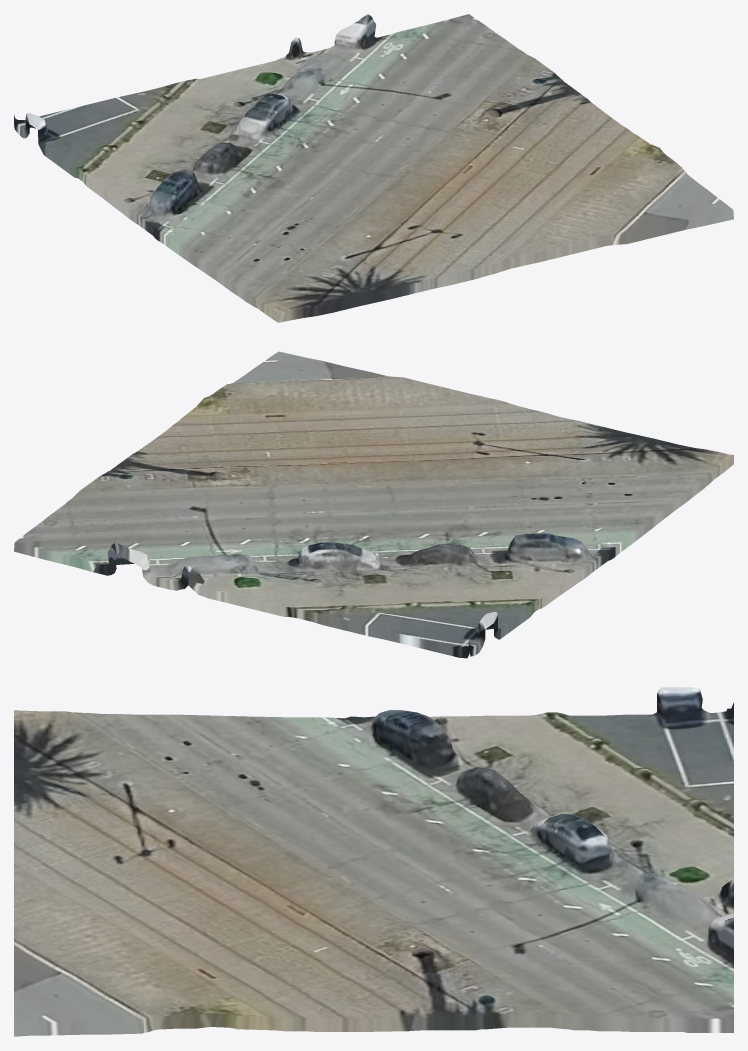
The model's file is z20-167782-405212-h0-yup-uvflip-v3-world.glb.
3 renders of one model, top to bottom at view 1: azimuth 30°, elevation 25°; view 2: azimuth 150°, elevation 25°; view 3: azimuth 270°, elevation 25°, orthographic. The views are drawn at different scales.
Size of the model in its own units: 30.2 by 2.32 by 30.32.
Materials: 1 (1 with a texture image).
